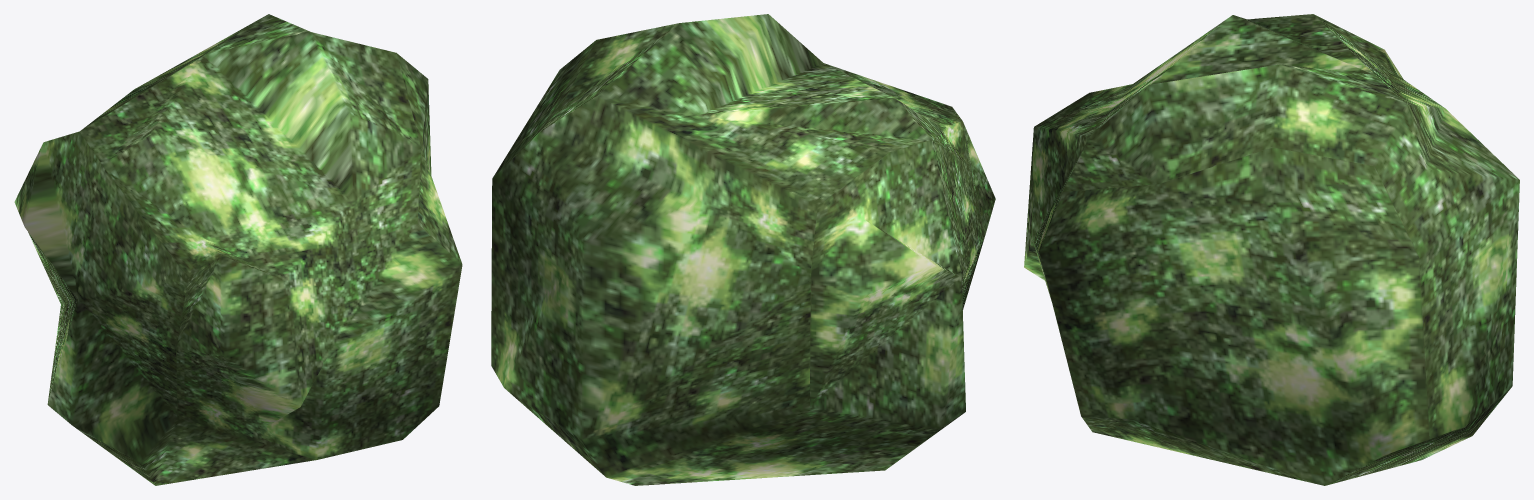
The model's file is asteroid_acid_small_s01_l2.fbx.
3 renders of one model, left to right at view 1: azimuth 30°, elevation 25°; view 2: azimuth 150°, elevation 25°; view 3: azimuth 270°, elevation 25°, orthographic. The views are drawn at different scales.
Visible parts, largest first — view 1: mesh_node; view 2: mesh_node; view 3: mesh_node.
Part boxes in pixels (bbox=[...]): mesh_node: bbox=[14, 14, 462, 485]; mesh_node: bbox=[491, 14, 995, 485]; mesh_node: bbox=[1024, 14, 1519, 485].
Size of the model in its own units: 24.9 by 24.06 by 25.64.
1 material, 1 textured.
